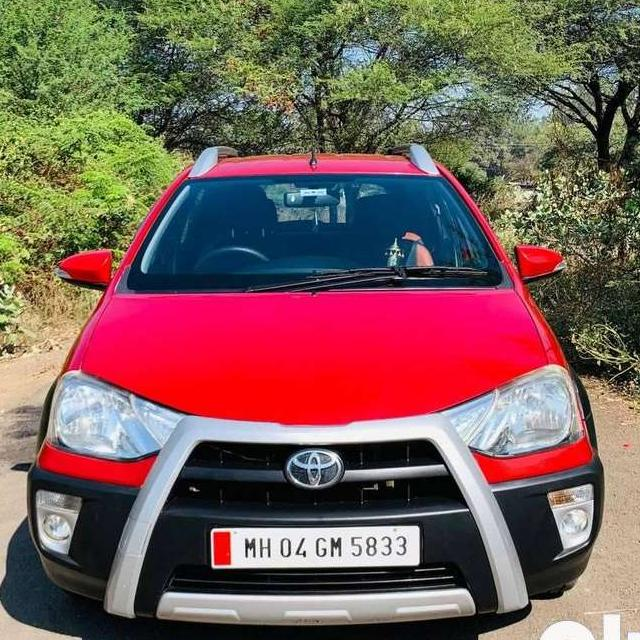Indian_Number_Plate: (207, 524, 424, 569)
